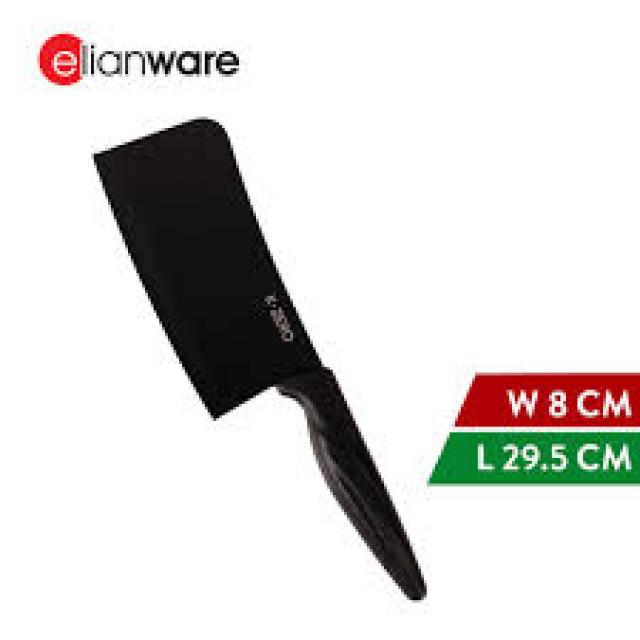Knife: (94, 117, 424, 600)
